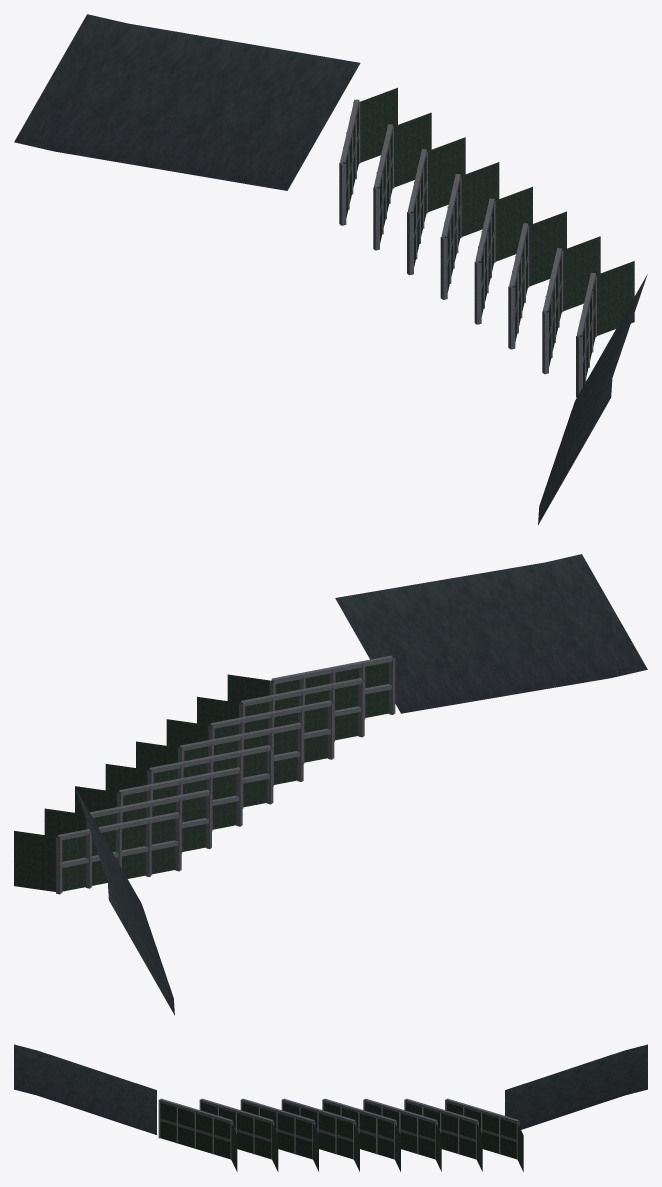
Rendered from lot_back_wall.glb.
The picture shows the model from 3 angles, top to bottom: view 1: azimuth 30°, elevation 25°; view 2: azimuth 150°, elevation 25°; view 3: azimuth 270°, elevation 25°; orthographic projection. The views are drawn at different scales.
Parts seen in each view (by area): view 1: lot_taper_cut, lattice_z44.0, lattice_z28.0, lattice_z16.0, lattice_z32.0, lattice_z36.0, lattice_z20.0, lattice_z40.0, lattice_z24.0; view 2: lot_taper_cut, lattice_z16.0, lattice_z36.0, lattice_z28.0, lattice_z44.0, lattice_z32.0, lattice_z40.0, lattice_z24.0, lattice_z20.0; view 3: lot_taper_cut, lattice_z44.0, lattice_z40.0, lattice_z16.0, lattice_z20.0, lattice_z32.0, lattice_z36.0, lattice_z24.0, lattice_z28.0.
Part boxes in pixels (box(x1,y1,x2,y2)): lot_taper_cut: box(14, 14, 647, 524); lattice_z44.0: box(576, 261, 634, 397); lattice_z28.0: box(440, 162, 499, 299); lattice_z16.0: box(339, 87, 397, 225); lattice_z32.0: box(474, 187, 532, 324); lattice_z36.0: box(508, 211, 566, 349); lattice_z20.0: box(373, 112, 431, 250); lattice_z40.0: box(542, 236, 600, 374); lattice_z24.0: box(407, 137, 465, 275); lot_taper_cut: box(76, 554, 647, 1015); lattice_z16.0: box(14, 812, 181, 894); lattice_z36.0: box(166, 700, 334, 763); lattice_z28.0: box(105, 745, 273, 808); lattice_z44.0: box(227, 655, 395, 719); lattice_z32.0: box(136, 722, 303, 786); lattice_z40.0: box(197, 678, 364, 741); lattice_z24.0: box(75, 767, 242, 831); lattice_z20.0: box(44, 789, 211, 853); lot_taper_cut: box(14, 1044, 647, 1134); lattice_z44.0: box(158, 1098, 237, 1171); lattice_z40.0: box(199, 1098, 278, 1171); lattice_z16.0: box(445, 1098, 523, 1171); lattice_z20.0: box(404, 1098, 482, 1171); lattice_z32.0: box(281, 1098, 359, 1171); lattice_z36.0: box(240, 1098, 318, 1171); lattice_z24.0: box(363, 1098, 441, 1171); lattice_z28.0: box(322, 1098, 400, 1171).
Bounding box in the file's own units: 19.21 × 7.2 × 62.
Materials: 3 (3 with a texture image).
